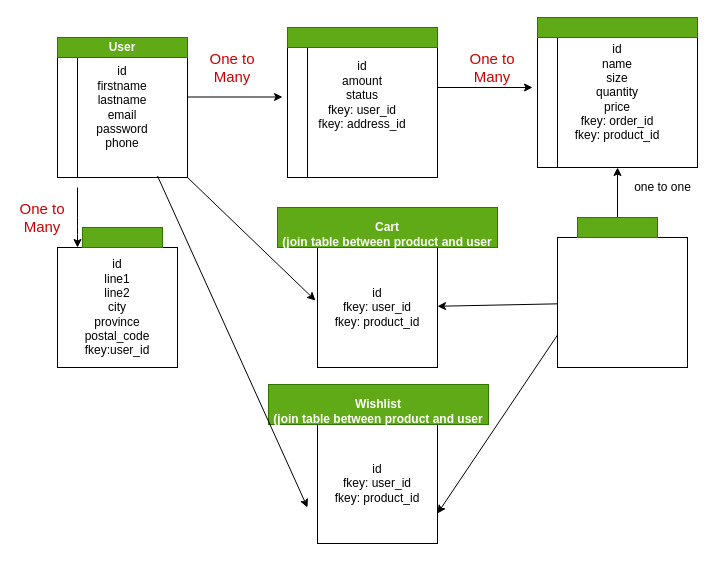
This 715x561 diagram has some shape labels left out. Here are the shapes that lost their labels. From the top down, the centre of each, then its label:
the point at 362,37: Order
the point at 617,27: Ordered_Products
the point at 122,237: Address
the point at 617,227: Product
the point at 622,302: id name description size quantity image fkey: category_id fkey: subcategory_id
